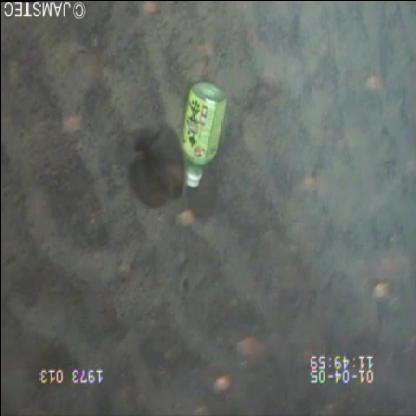Rác: (176, 74, 230, 188)
